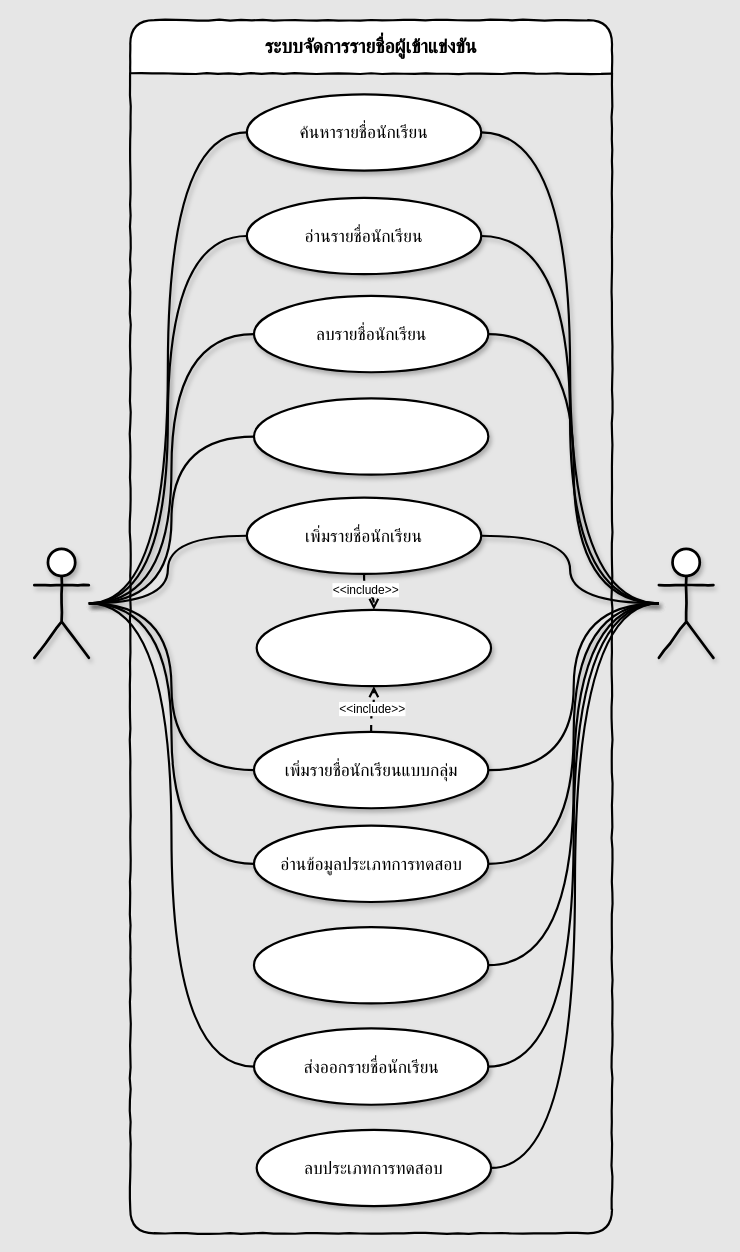
Image size: 740x1252. Some labels were removed from this diagram. The shapes that lost their labels are listed below. From the top down, each one's centre as x and y in pixels, then its label:
At [371,437]: "แก้ไขข้อมูลนักเรียน".
At [62,604]: "ผู้ประสานงาน".
At [687,604]: "ผู้ดูแลระบบ".
At [374,649]: "สร้างชื่อผู้ใช้และรหัสผ่าน สำหรับ Moodle".
At [371,966]: "เพิ่มประเภทการทดสอบ".
